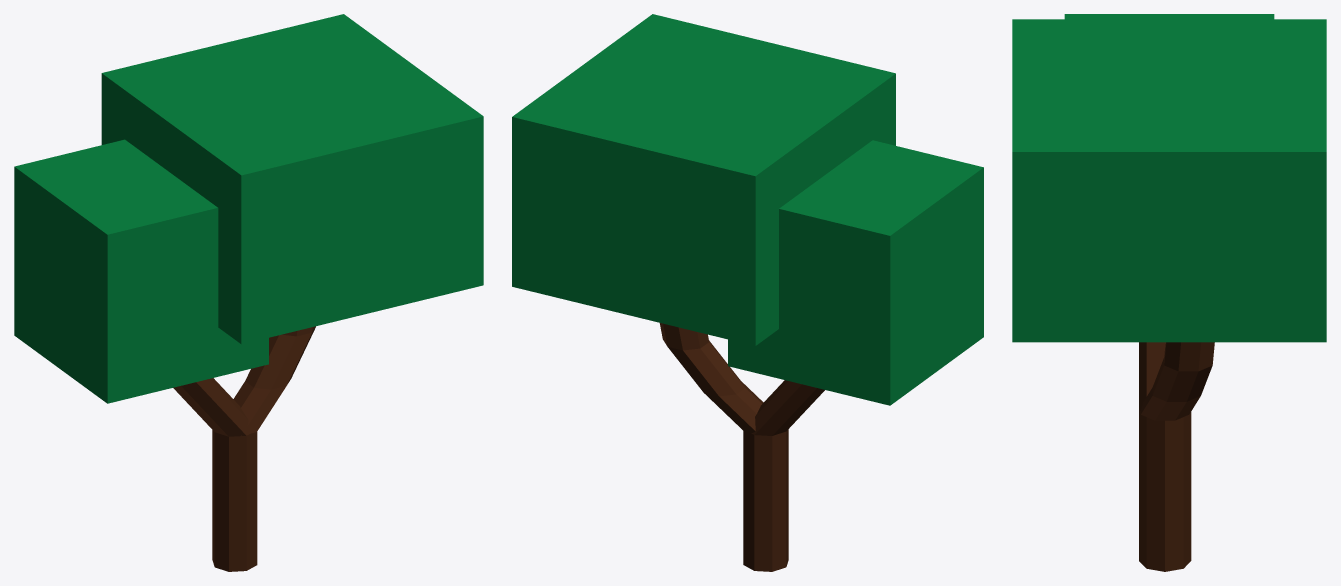
The model's file is Schiavone-TreeAlt.fbx.
3 views of the same model, side by side, from view 1: azimuth 30°, elevation 25°; view 2: azimuth 150°, elevation 25°; view 3: azimuth 270°, elevation 25° (orthographic). The views are drawn at different scales.
Visible parts, largest first — view 1: trunk; view 2: trunk; view 3: trunk.
Boxes of the visible parts, x1,y1,x2,y2 form: trunk: (14, 14, 483, 571); trunk: (512, 14, 983, 571); trunk: (1012, 14, 1326, 571).
Bounding box in the file's own units: 172 × 118 × 210.
